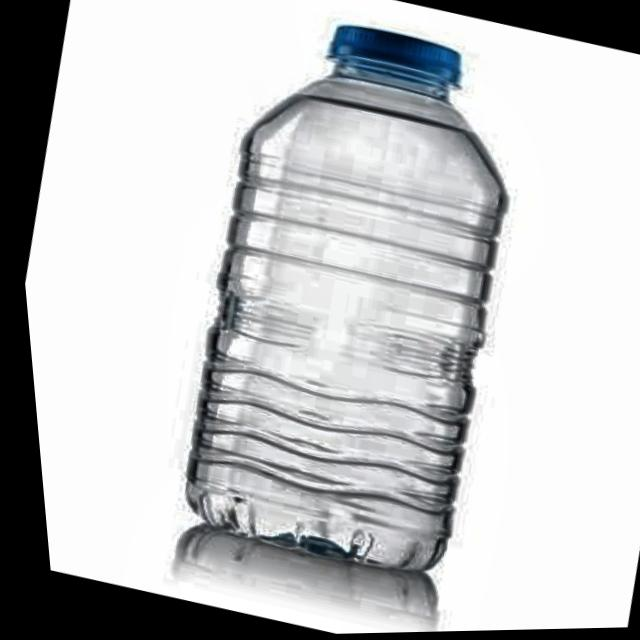Bottles: (85, 0, 591, 626)
